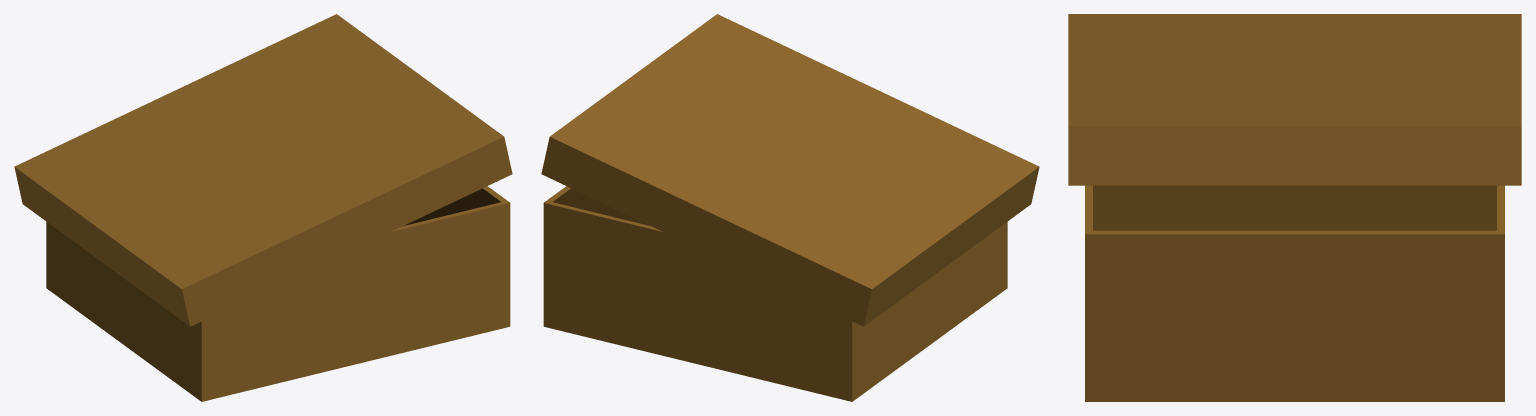
3 views of the same model, side by side, from view 1: azimuth 30°, elevation 25°; view 2: azimuth 150°, elevation 25°; view 3: azimuth 270°, elevation 25° (orthographic). The views are drawn at different scales.
Visible parts, largest first — view 1: Prop_SmallStorageBox_03; view 2: Prop_SmallStorageBox_03; view 3: Prop_SmallStorageBox_03.
Boxes of the visible parts, box(x1,y1,x2,y2) form: Prop_SmallStorageBox_03: box(14, 14, 512, 401); Prop_SmallStorageBox_03: box(541, 14, 1039, 401); Prop_SmallStorageBox_03: box(1068, 14, 1521, 401).
Bounding box in the file's own units: 35.06 × 19.77 × 30.41.
1 material, 1 textured.
